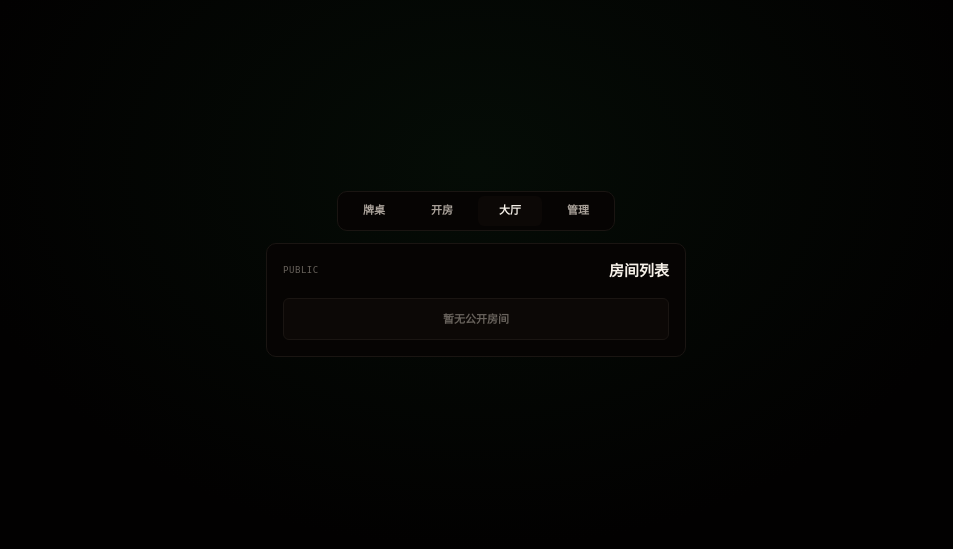
Test: App shell › starts the current room with the stored host token and waits for live state
The width and height of the screenshot is (953, 549).
Click the button "开房" at (442, 211), box x1=410 y1=196 x2=474 y2=226
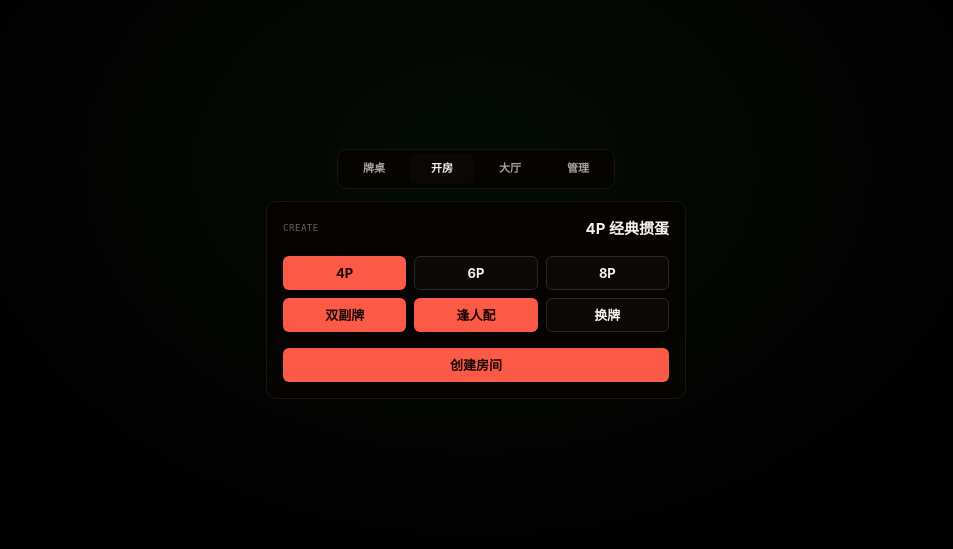
Click the button "创建房间" at (476, 365), box x1=283 y1=348 x2=669 y2=382
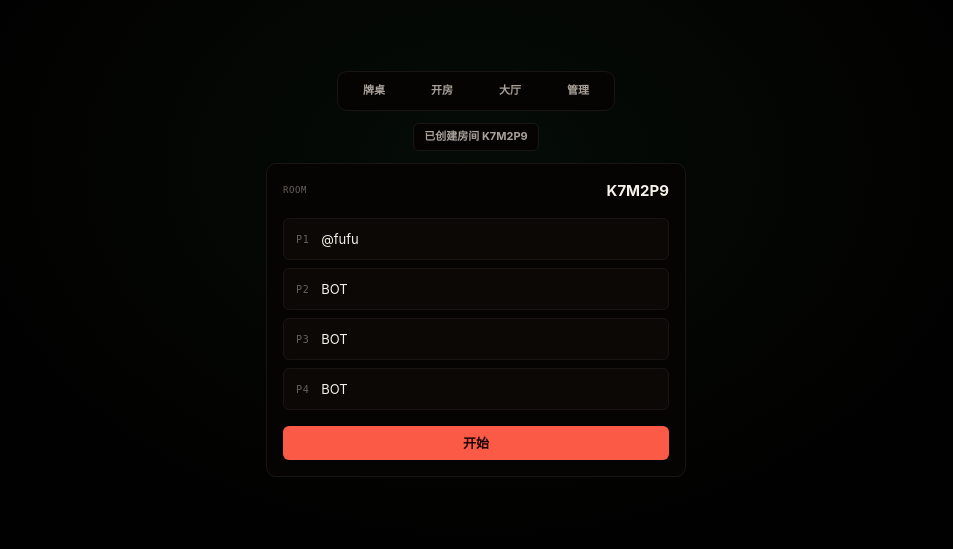
Click the button "开始" at (476, 443), box x1=283 y1=426 x2=669 y2=460
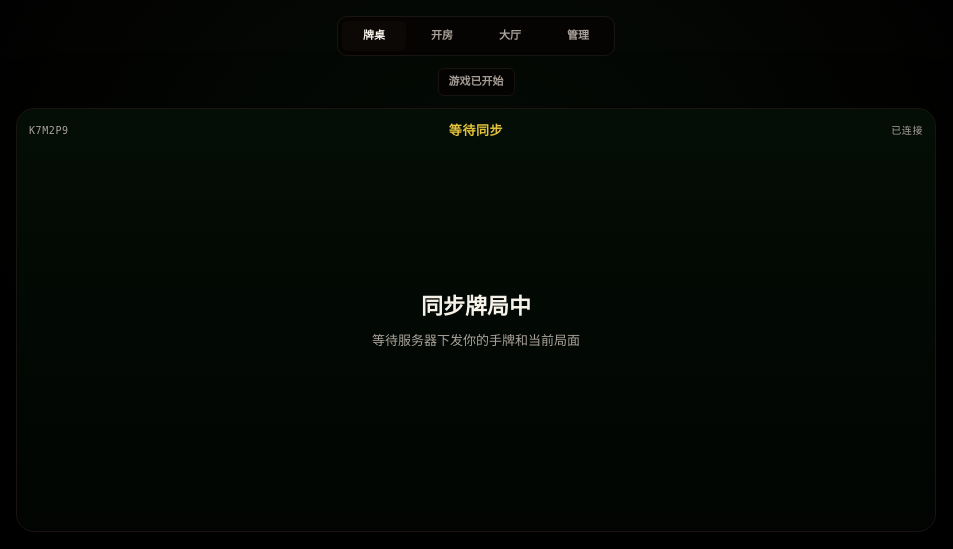
Check: the element named "Game loading" is shown
Check: the text "同步牌局中" is shown, box x1=421 y1=290 x2=531 y2=323
